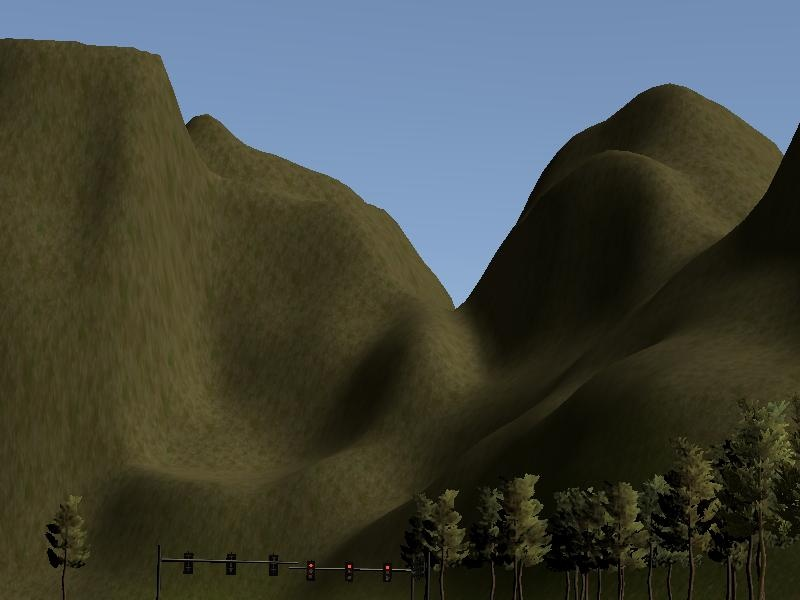red: (303, 557, 317, 583), (382, 560, 394, 587), (344, 560, 353, 586)
